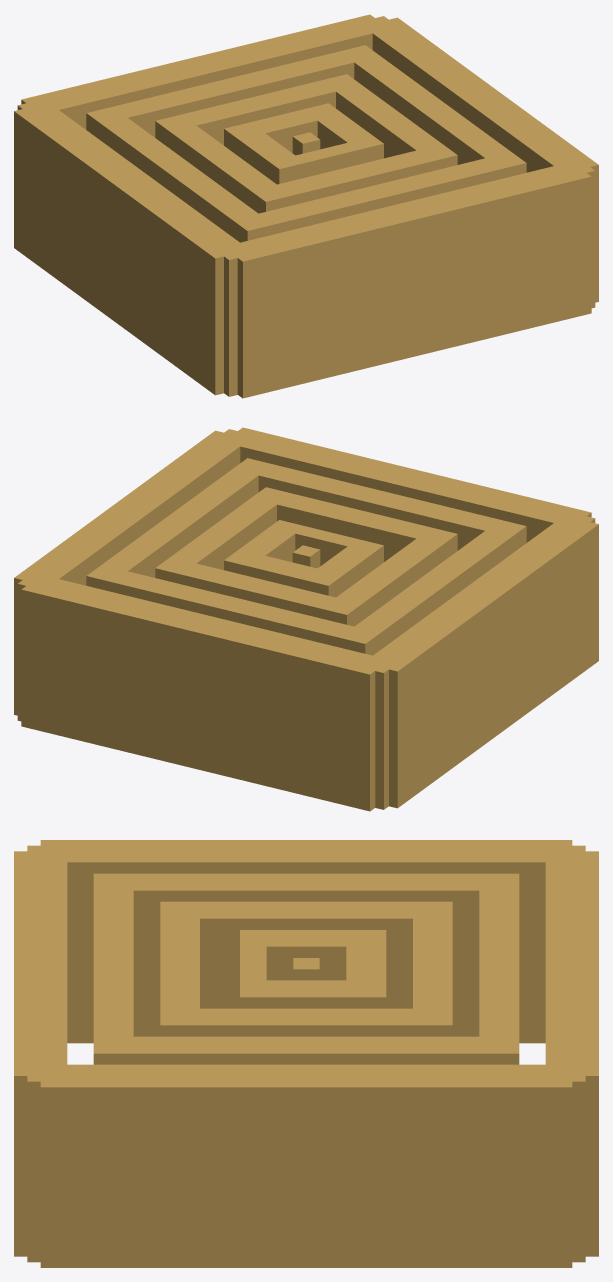
File: wood-1.obj
3 renders of one model, top to bottom at view 1: azimuth 30°, elevation 25°; view 2: azimuth 150°, elevation 25°; view 3: azimuth 270°, elevation 25°, orthographic. The views are drawn at different scales.
Size of the model in its own units: 4.4 by 1.5 by 4.4.
Materials: 1 (1 with a texture image).
